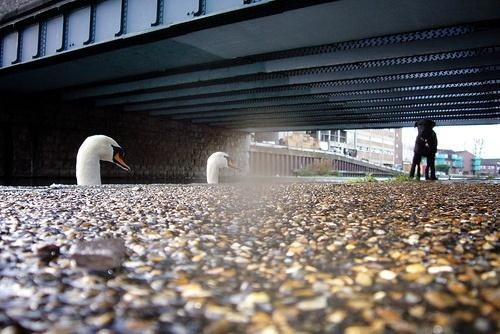bird: (76, 136, 132, 185), (207, 152, 241, 181)
dog: (410, 118, 440, 180)
